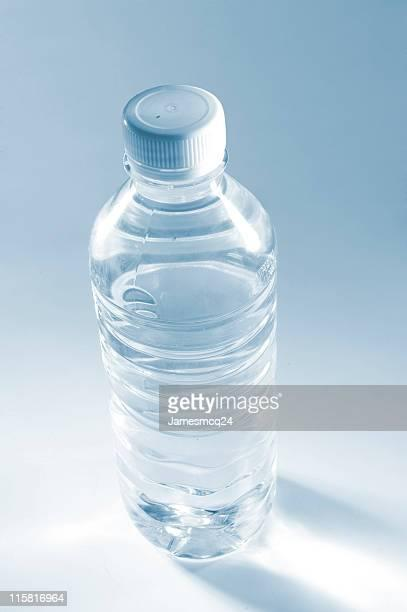plastic_bottle: (81, 81, 291, 581)
